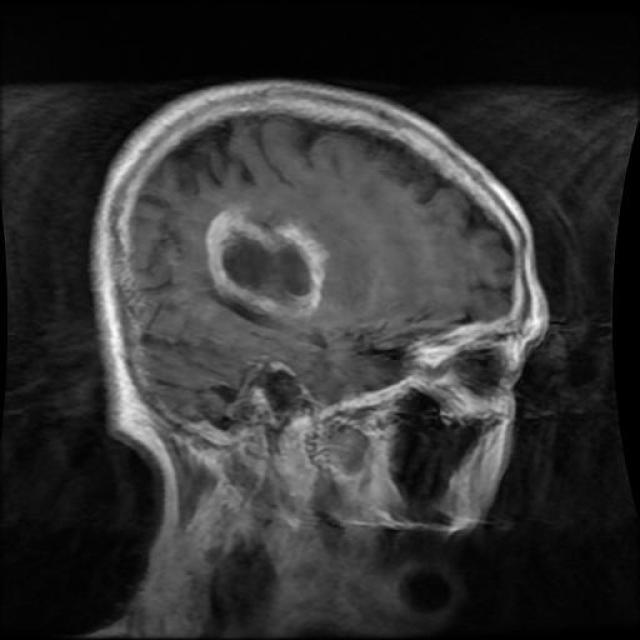glioma: (208, 205, 326, 319)
